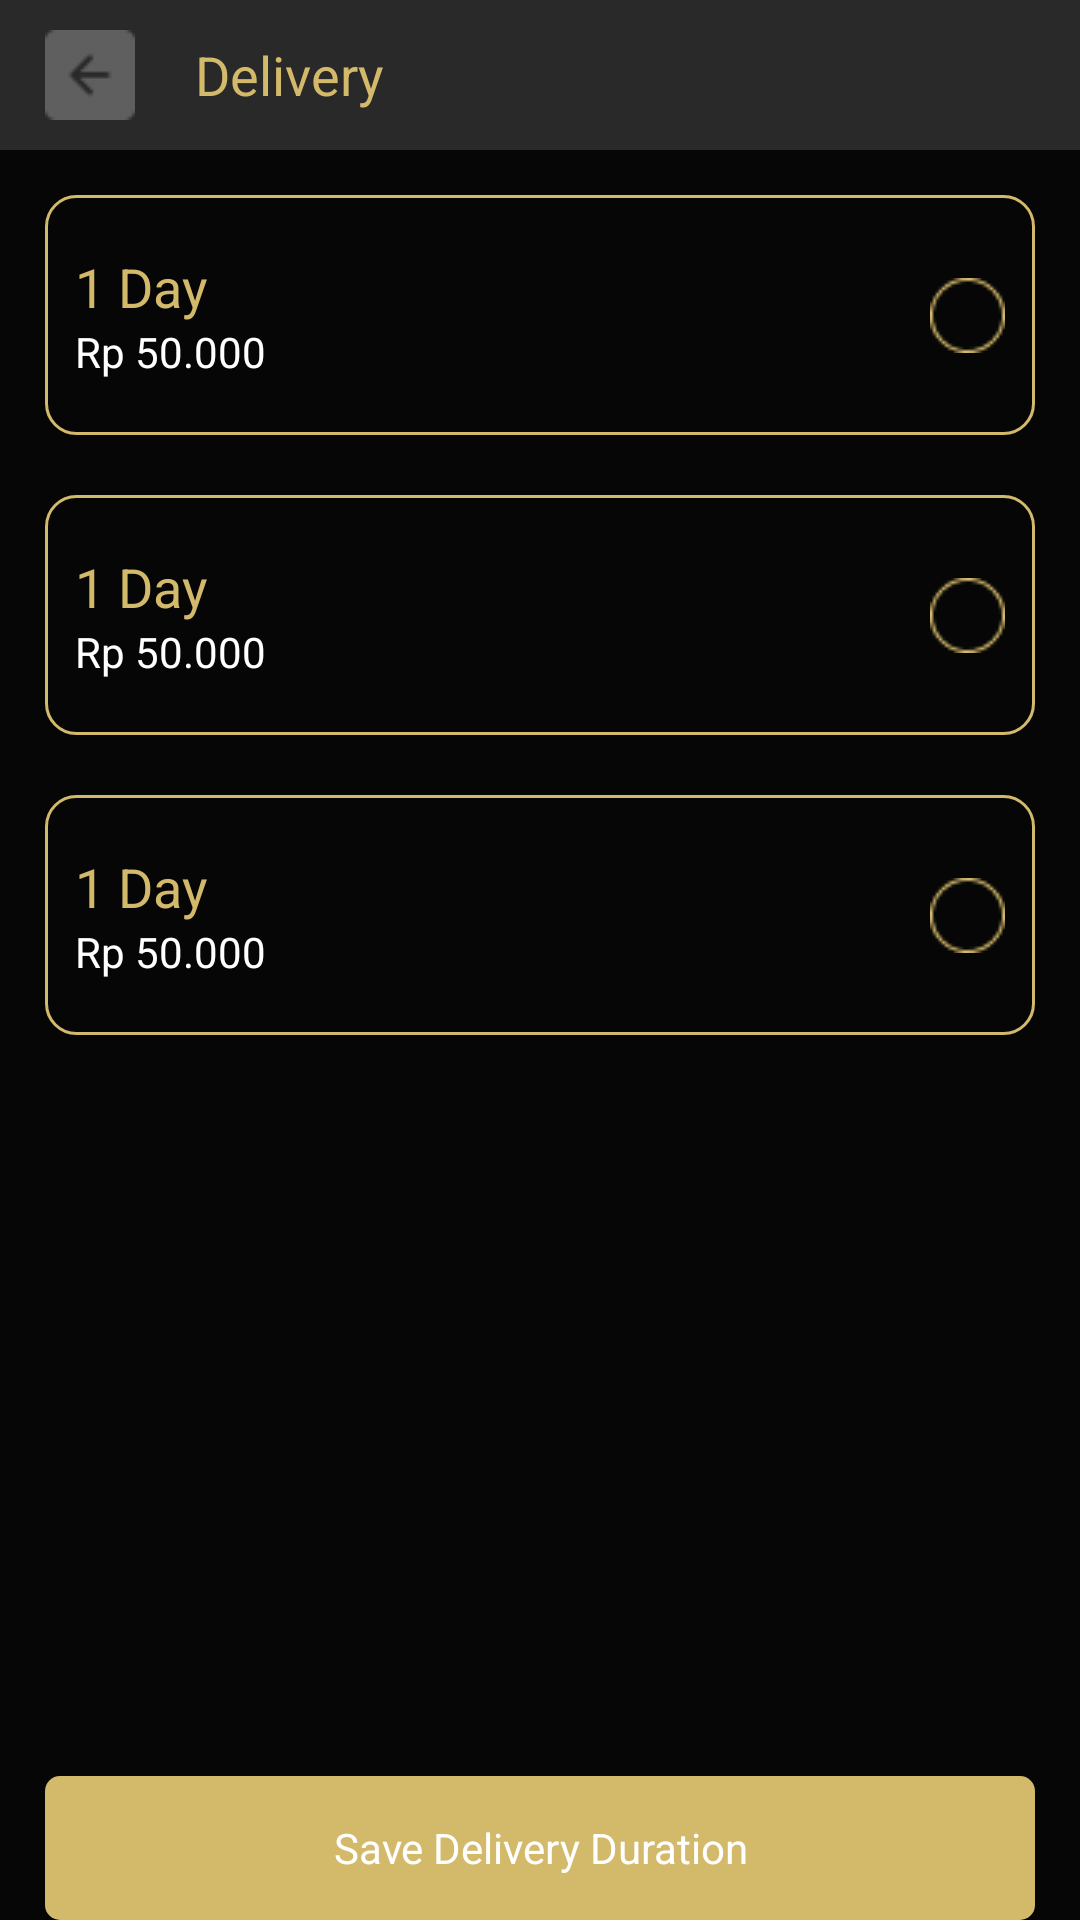

Screen size 1080px x 1920px. Icon name, then its center in pixels as (x=x, y=y):
arrow: (x=90, y=75)
custom radiobutton: (x=967, y=315), (x=967, y=615), (x=967, y=915)
